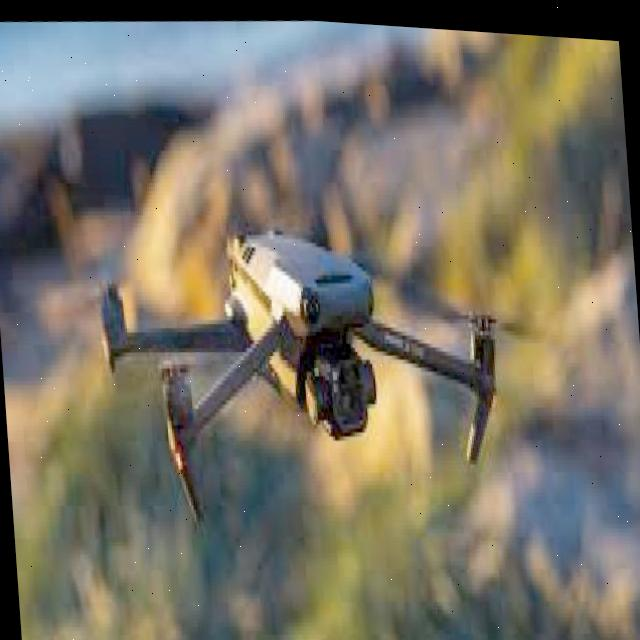drone: (62, 150, 536, 544)
